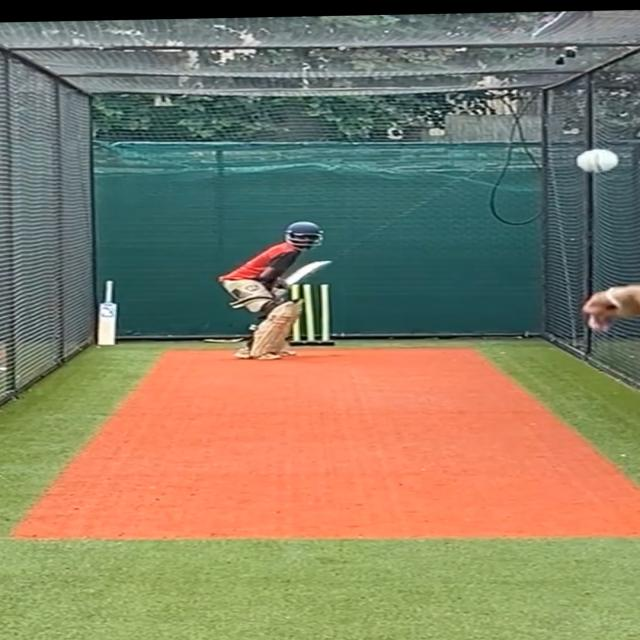ball: (571, 146, 622, 177)
stump: (290, 281, 336, 348)
